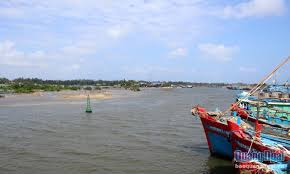tau_dansu: (197, 106, 290, 158), (228, 121, 290, 174), (232, 92, 290, 130)
